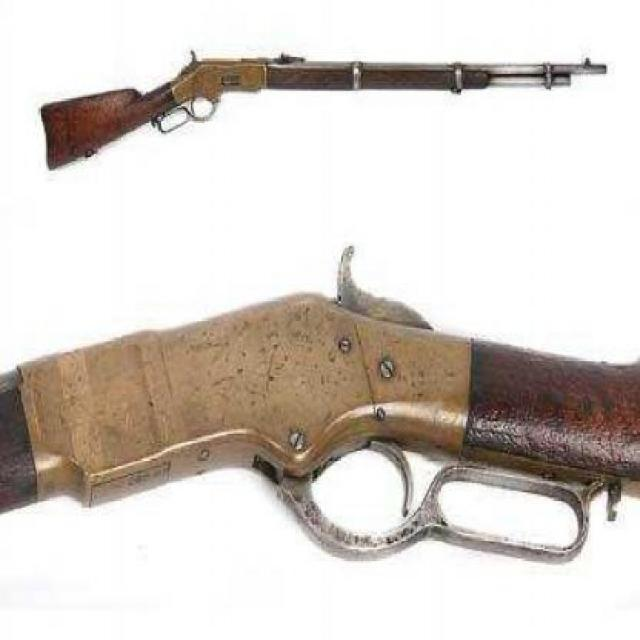weapon: (0, 242, 640, 564), (36, 46, 608, 174)
